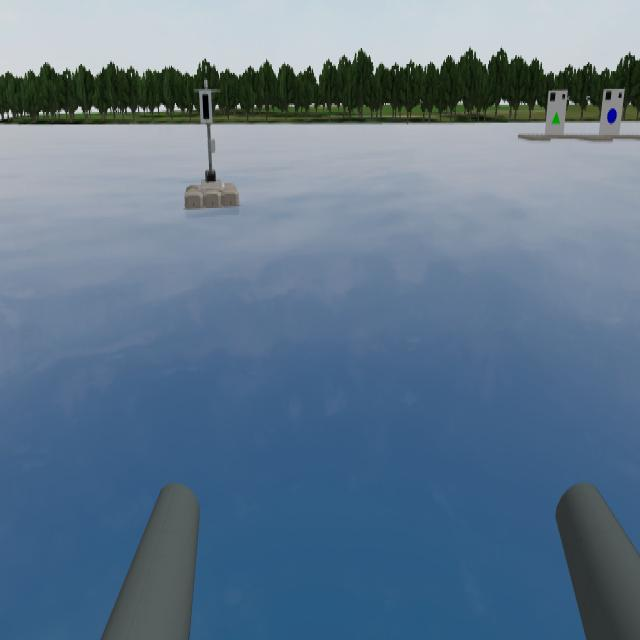dock: (604, 88, 622, 134), (548, 88, 566, 132)
post: (198, 87, 214, 124)
